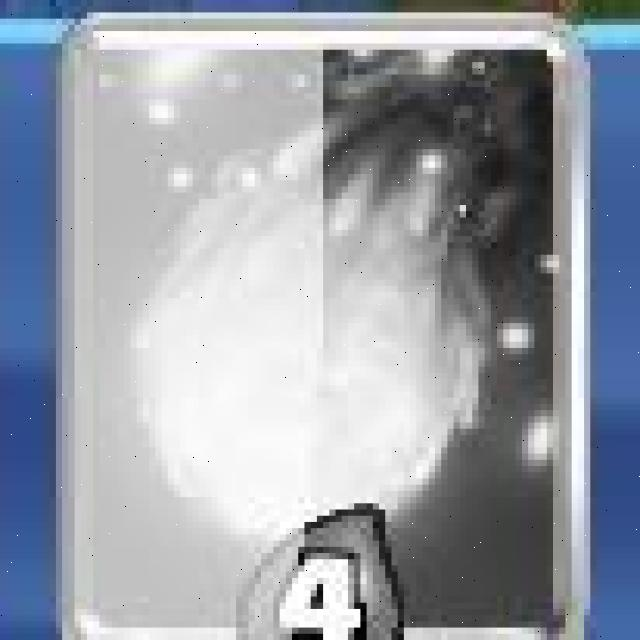Fireball: (52, 11, 595, 640)
